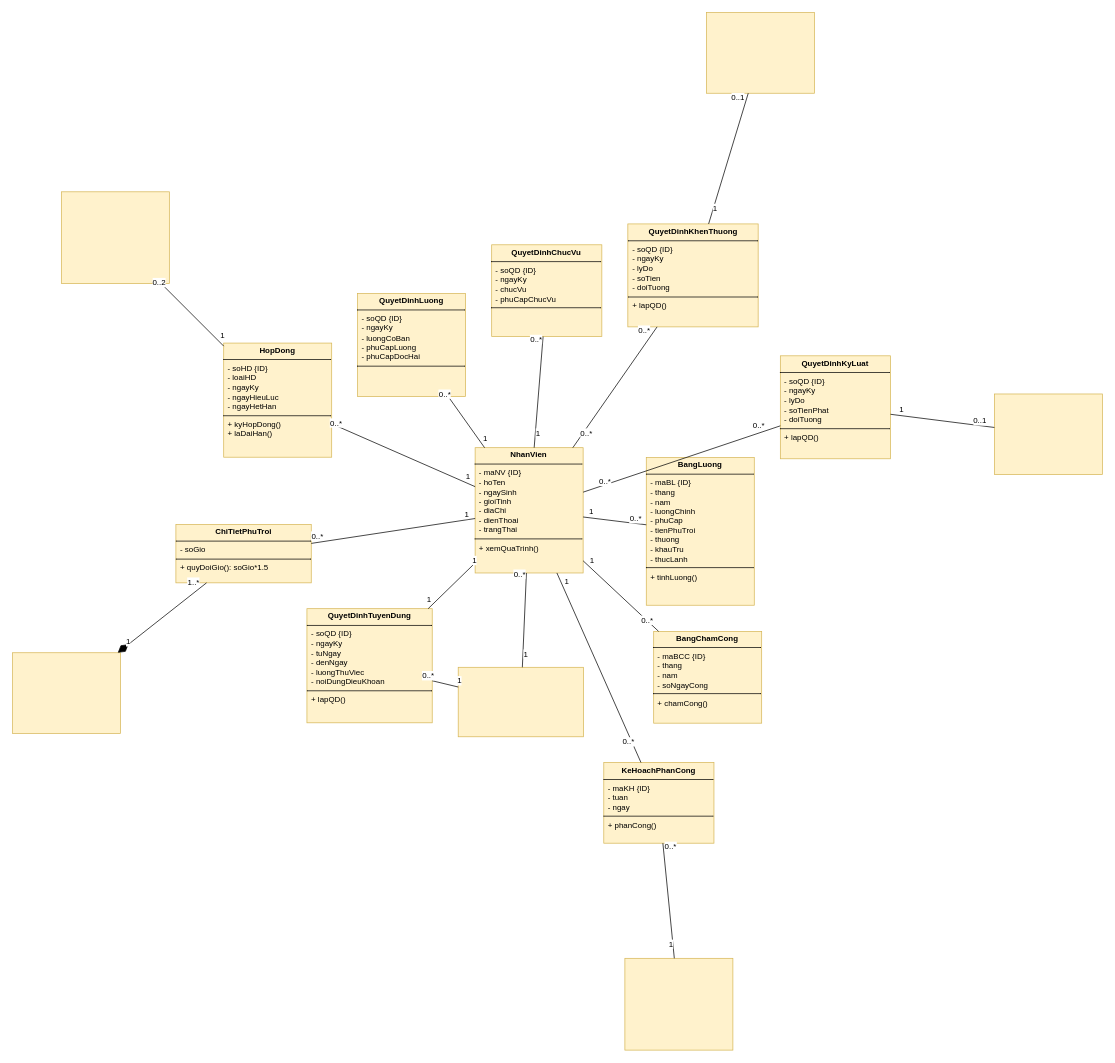
Image size: 1115x1063. Some labels were removed from this diagram. The shapes that lost their labels are listed below. From the top down, each one's centre as x and y in pixels, then its label:
At pixel 760 52: "PhieuChi - soPhieuChi {ID} - ngayChi - soTien".
At pixel 115 237: "HoSoBaoHiem - soSo {ID} - loaiBH - mucDong - ngayThamGia + tinhTienTrich()".
At pixel 1048 434: "PhieuThu - soPhieuThu {ID} - ngayThu - soTien".
At pixel 66 692: "PhieuPhuTroi - soPhieu {ID} - ngayPhuTroi - hinhThuc".
At pixel 520 702: "PhongBan - maPB {ID} - tenPB + lapKeHoachPhanCong()".
At pixel 678 1004: "CaLamViec - maCa {ID} - tenCa - gioBatDau - gioKetThuc".
